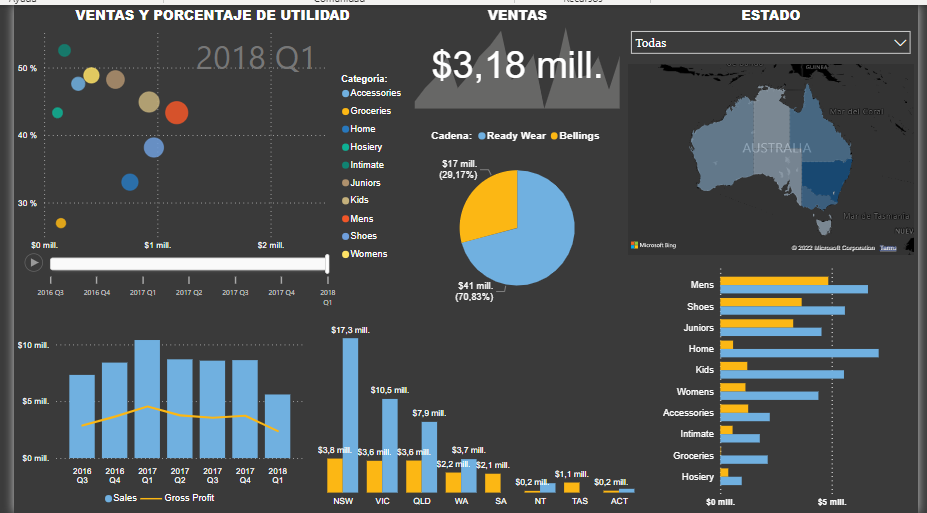

What the dashboard file says about the page in this screenshot:
{"tool":"powerbi","page":{"name":"Página 1","canvas":[1280,720],"ordinal":0},"visuals":[{"type":"clusteredColumnChart","fields":{"Category":["Regions.State"],"Y":["Sum(Sales.Sales)"],"Series":["Sales.Chain"]},"box":[416.4,435.8,491,283.6],"z":0},{"type":"scatterChart","title":"VENTAS Y PORCENTAJE DE UTILIDAD","fields":{"X":["Sum(Sales.Sales)"],"Y":["Sales.%Utilidad"],"Series":["Buyers.Category"],"Size":["Sum(Sales.Gross Profit)"],"Play":["Dates.FY Qtr"]},"box":[0,0,562.7,435.8],"z":1000},{"type":"slicer","title":"ESTADO","fields":{"Values":["Regions.State"]},"box":[864.2,0,416.4,88.1],"z":2000},{"type":"kpi","title":"VENTAS","fields":{"Indicator":["Sum(Sales.Sales)"],"TrendLine":["Dates.Date"]},"box":[562.7,0,301.5,152.2],"z":3000},{"type":"pieChart","title":"VENTAS POR CADENA","fields":{"Y":["Sum(Sales.Sales)"],"Category":["Sales.Chain"]},"box":[562.7,164.2,301.5,271.6],"z":4000},{"type":"filledMap","fields":{"Category":["Regions.State,Country"]},"box":[864.2,77.6,416.4,282.1],"z":5000},{"type":"lineClusteredColumnComboChart","fields":{"Category":["Dates.FY Qtr"],"Y":["Sum(Sales.Sales)"],"Y2":["Sum(Sales.Gross Profit)"]},"box":[0,435.8,416.4,283.6],"z":6000},{"type":"clusteredBarChart","fields":{"Category":["Buyers.Category"],"Y":["Sum(Sales.Sales)"],"Series":["Sales.Chain"]},"box":[907.5,359.7,373.1,359.7],"z":7000}]}

Visuals, with their boxes in screenshot pixels (x1, y1, x2, y2), scaled from the page's 1280x720 canvas onto the 927x513 screenshot:
clusteredColumnChart - Regions.State x Sum(Sales.Sales): left=302, top=311, right=657, bottom=512
"VENTAS Y PORCENTAJE DE UTILIDAD" scatterChart: left=0, top=0, right=408, bottom=311
"ESTADO" slicer: left=626, top=0, right=926, bottom=63
"VENTAS" kpi: left=408, top=0, right=626, bottom=108
"VENTAS POR CADENA" pieChart: left=408, top=117, right=626, bottom=311
filledMap - Regions.State,Country: left=626, top=55, right=926, bottom=256
lineClusteredColumnComboChart - Dates.FY Qtr x Sum(Sales.Sales): left=0, top=311, right=302, bottom=512
clusteredBarChart - Buyers.Category x Sum(Sales.Sales): left=657, top=256, right=926, bottom=512
